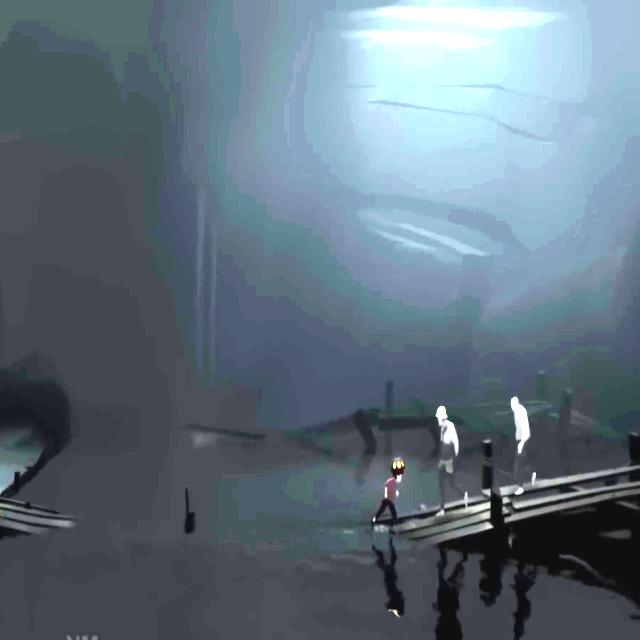boy: (371, 475, 402, 529)
zombie: (434, 406, 468, 515), (511, 396, 536, 495)
